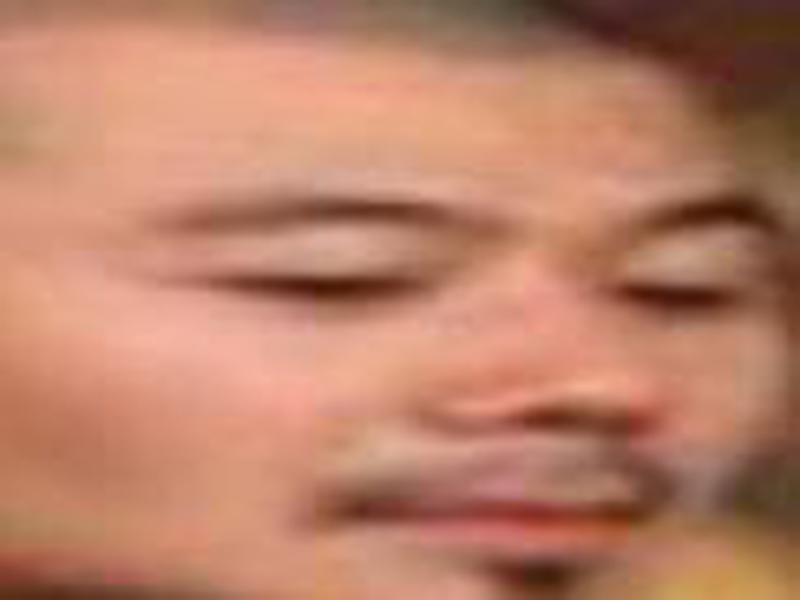without_mask: (4, 10, 793, 600)
